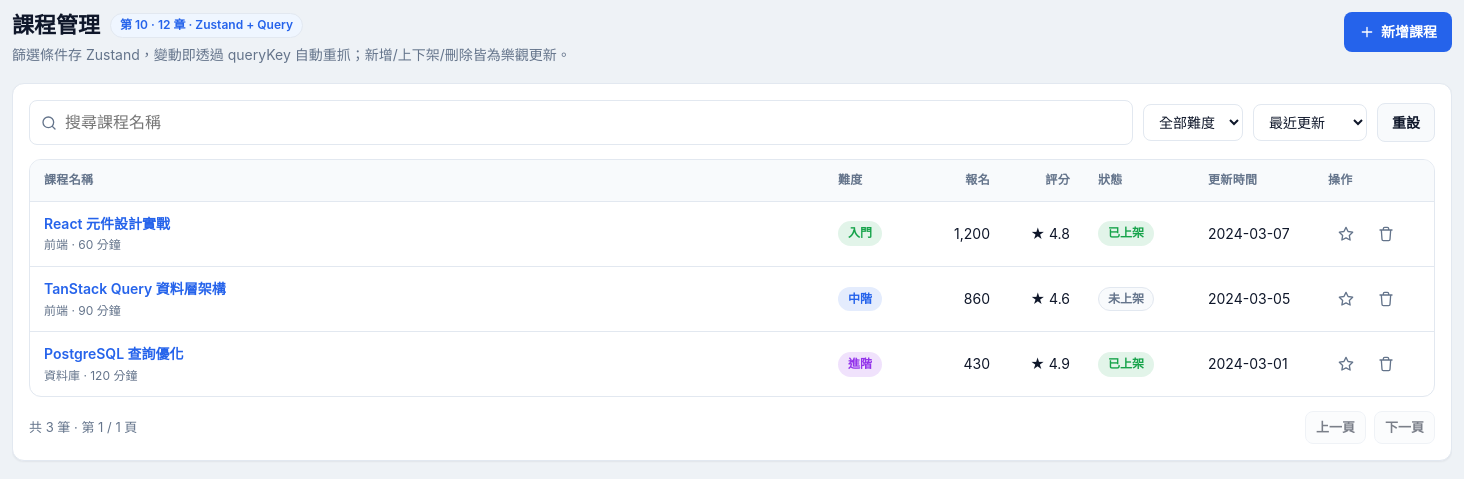
Scenario: CourseListPage › 刪除課程時會先跳確認，樂觀更新讓該列立刻消失
Click the button named "刪除" in the row of "TanStack Query 資料層架構". click: (1386, 299)
box: [1368,281,1404,317]
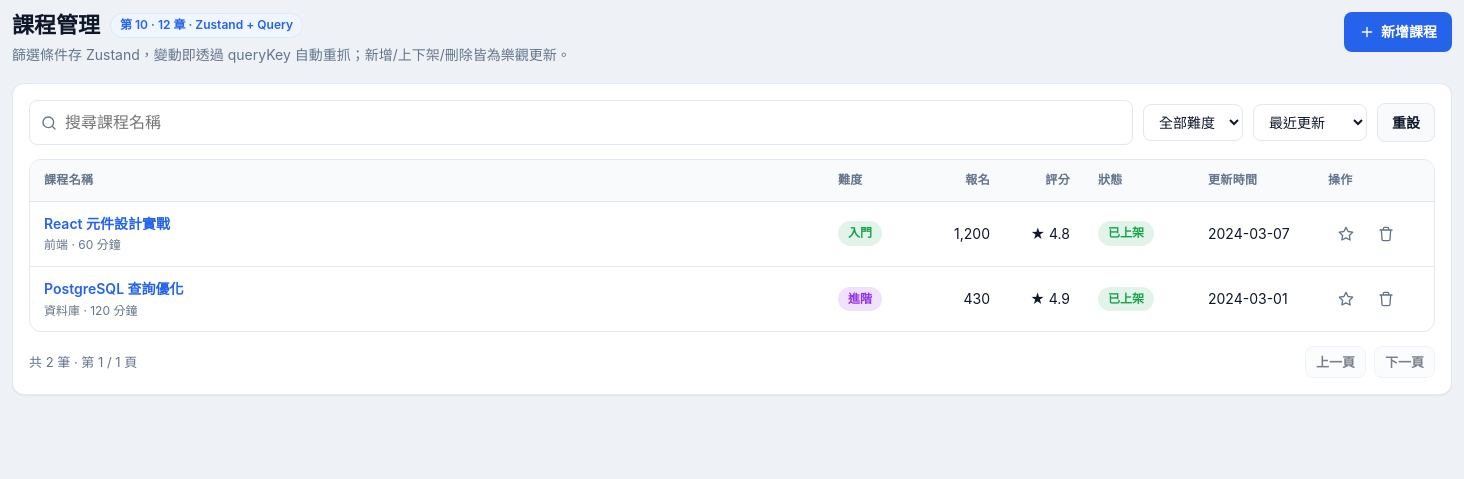
Check: the link "TanStack Query 資料層架構" is gone
